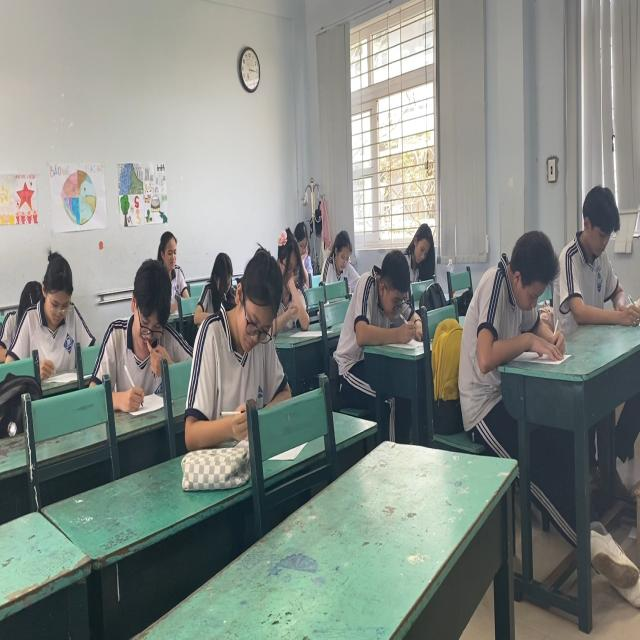not_cheating: (189, 236, 287, 451), (466, 217, 556, 446), (335, 238, 414, 378), (565, 176, 624, 347), (111, 248, 175, 405), (264, 214, 319, 334), (31, 242, 80, 375), (193, 224, 244, 314), (316, 221, 361, 315), (144, 218, 192, 304), (398, 208, 439, 306), (289, 200, 319, 276)
